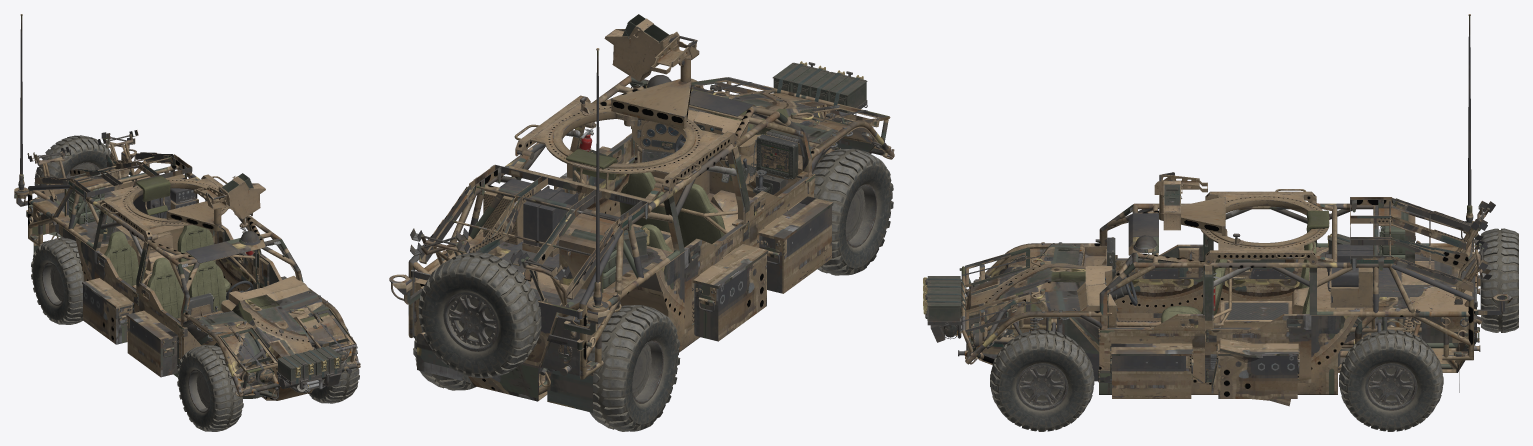
Rendered from VEH_Flyer60.glb.
3 views of the same model, side by side, from view 1: azimuth 30°, elevation 25°; view 2: azimuth 150°, elevation 25°; view 3: azimuth 270°, elevation 25° (orthographic). The views are drawn at different scales.
Visible parts, largest first — view 1: ob_veh_car_flyer60_base_s0, ob_veh_car_flyer60_cockpit_1p_s0_p0, ob_veh_car_flyer60_topgunnerframe_s0_p0, ob_veh_car_flyer60_wheel_s0_p1, ob_veh_car_flyer60_base_s4, ob_veh_car_flyer60_wheel_s0_p3, ob_veh_car_flyer60_base_s1, ob_veh_car_flyer60_base_s5, ob_veh_car_flyer60_wheel_s0_p0, ob_veh_car_flyer60_base_s2; view 2: ob_veh_car_flyer60_base_s0, ob_veh_car_flyer60_topgunnerframe_s0_p0, ob_veh_car_flyer60_base_s5, ob_veh_car_flyer60_cockpit_1p_s0_p0, ob_veh_car_flyer60_wheel_s0_p3, ob_veh_car_flyer60_wheel_s0_p1, ob_veh_car_flyer60_base_s4, ob_veh_car_flyer60_base_s1, ob_veh_car_flyer60_wheel_s0_p2, ob_veh_car_flyer60_cockpit_1p_s1_p0; view 3: ob_veh_car_flyer60_base_s0, ob_veh_car_flyer60_wheel_s0_p2, ob_veh_car_flyer60_wheel_s0_p0, ob_veh_car_flyer60_topgunnerframe_s0_p0, ob_veh_car_flyer60_base_s1, ob_veh_car_flyer60_cockpit_1p_s0_p0, ob_veh_car_flyer60_base_s4, ob_veh_car_flyer60_base_s5.
Part boxes in pixels (<box>): ob_veh_car_flyer60_base_s0: <box>14,14,360,400</box>; ob_veh_car_flyer60_cockpit_1p_s0_p0: <box>100,223,309,320</box>; ob_veh_car_flyer60_topgunnerframe_s0_p0: <box>100,173,265,250</box>; ob_veh_car_flyer60_wheel_s0_p1: <box>177,345,243,431</box>; ob_veh_car_flyer60_base_s4: <box>67,174,341,393</box>; ob_veh_car_flyer60_wheel_s0_p3: <box>31,238,83,324</box>; ob_veh_car_flyer60_base_s1: <box>95,225,282,358</box>; ob_veh_car_flyer60_base_s5: <box>34,135,114,198</box>; ob_veh_car_flyer60_wheel_s0_p0: <box>308,327,359,403</box>; ob_veh_car_flyer60_base_s2: <box>30,236,347,383</box>; ob_veh_car_flyer60_base_s0: <box>389,48,894,412</box>; ob_veh_car_flyer60_topgunnerframe_s0_p0: <box>514,14,737,193</box>; ob_veh_car_flyer60_base_s5: <box>418,252,541,378</box>; ob_veh_car_flyer60_cockpit_1p_s0_p0: <box>573,109,815,252</box>; ob_veh_car_flyer60_wheel_s0_p3: <box>586,305,680,431</box>; ob_veh_car_flyer60_wheel_s0_p1: <box>812,148,893,275</box>; ob_veh_car_flyer60_base_s4: <box>483,61,867,288</box>; ob_veh_car_flyer60_base_s1: <box>555,133,810,251</box>; ob_veh_car_flyer60_wheel_s0_p2: <box>413,336,476,390</box>; ob_veh_car_flyer60_cockpit_1p_s1_p0: <box>662,142,788,172</box>; ob_veh_car_flyer60_base_s0: <box>958,14,1512,406</box>; ob_veh_car_flyer60_wheel_s0_p2: <box>1339,329,1443,431</box>; ob_veh_car_flyer60_wheel_s0_p0: <box>990,329,1094,431</box>; ob_veh_car_flyer60_topgunnerframe_s0_p0: <box>1154,172,1329,264</box>; ob_veh_car_flyer60_base_s1: <box>1104,244,1310,329</box>; ob_veh_car_flyer60_cockpit_1p_s0_p0: <box>1076,237,1316,327</box>; ob_veh_car_flyer60_base_s4: <box>923,226,1405,342</box>; ob_veh_car_flyer60_base_s5: <box>1480,228,1518,332</box>.
Bounding box in the file's own units: 2 × 3.4 × 5.4.
8 materials, 7 textured.
